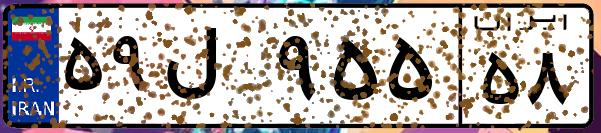5: (385, 28, 445, 110), (330, 28, 385, 110), (57, 26, 110, 100), (475, 38, 525, 113)
8: (525, 38, 570, 115)
9: (270, 28, 330, 110), (110, 28, 158, 98)
ل: (158, 20, 270, 120)
